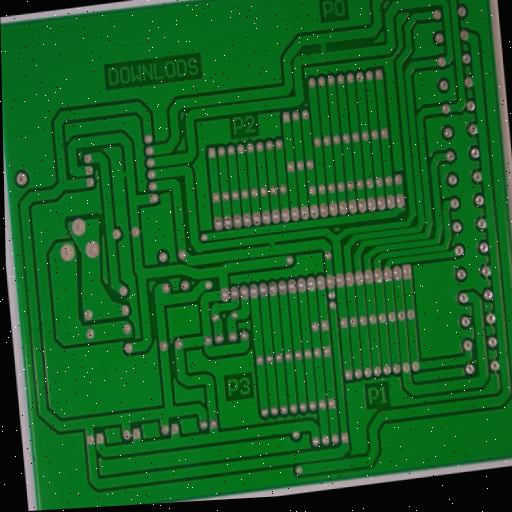short_circuit: (310, 30, 339, 69), (114, 160, 134, 191), (262, 232, 284, 258)
